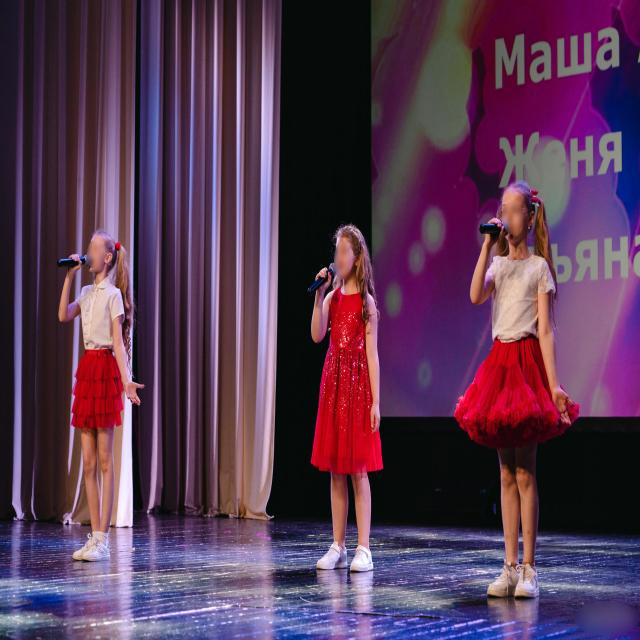Person: (465, 158, 581, 610), (48, 225, 152, 576), (303, 213, 391, 583)
